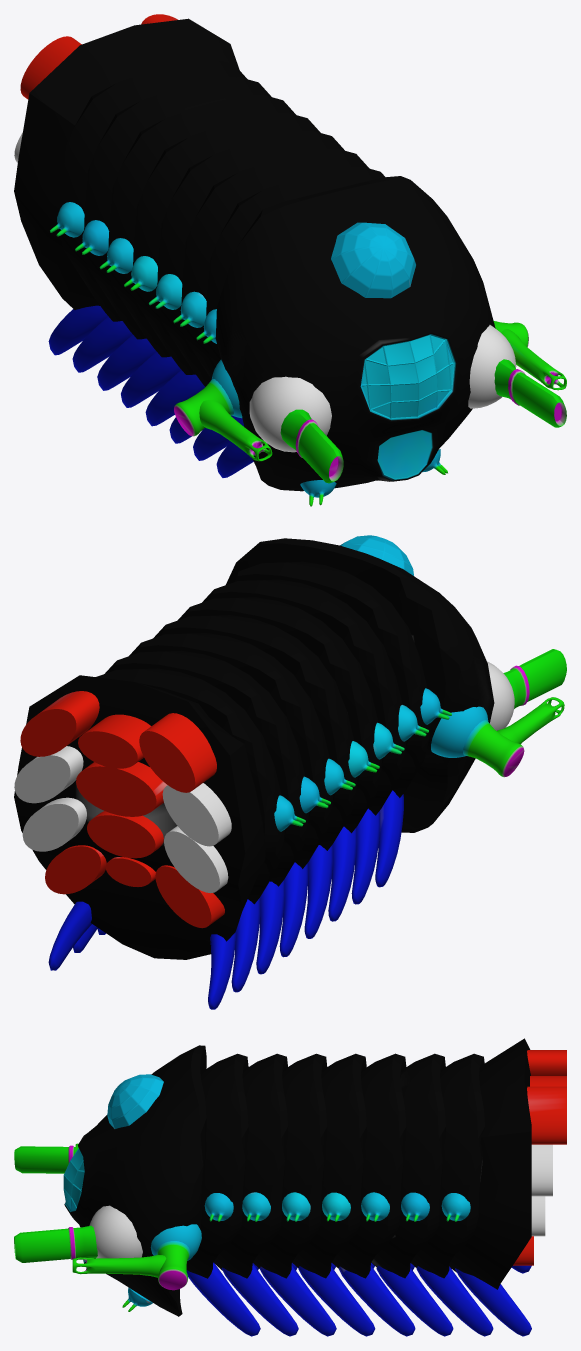
The model's file is Alien Morthership.fbx.
3 renders of one model, top to bottom at view 1: azimuth 30°, elevation 25°; view 2: azimuth 150°, elevation 25°; view 3: azimuth 270°, elevation 25°, orthographic. The views are drawn at different scales.
Parts seen in each view (by area): view 1: Head, Carcass_high.011, Carcass.009, Carcass.008, Carcass.012, Carcass.010, Carcass.013, Carcass.015, Dome.001, Carcass.014, Side_Cannons.002, Ball_Turret.002 (+18 smaller); view 2: Carcass_high.011, Head, Carcass.013, Carcass.012, Carcass.009, Carcass.014, Carcass.008, Carcass.015, Engine.015, Carcass.010, Engine.014, Engine.013 (+24 smaller); view 3: Head, Carcass_high.011, Carcass.009, Carcass.015, Carcass.012, Carcass.008, Carcass.013, Carcass.014, Carcass.010, Side_Cannons.001, Engine.015, Mega_Cannons.001 (+21 smaller).
Boxes of the visible parts, bbox=[...] form: Head: bbox=[215, 176, 495, 491]; Carcass_high.011: bbox=[14, 18, 239, 309]; Carcass.009: bbox=[108, 95, 295, 357]; Carcass.008: bbox=[84, 77, 271, 339]; Carcass.012: bbox=[133, 113, 320, 374]; Carcass.010: bbox=[60, 59, 247, 321]; Carcass.013: bbox=[157, 130, 344, 386]; Carcass.015: bbox=[181, 148, 369, 379]; Dome.001: bbox=[331, 222, 415, 298]; Carcass.014: bbox=[206, 166, 385, 365]; Side_Cannons.002: bbox=[174, 359, 272, 461]; Ball_Turret.002: bbox=[249, 376, 331, 452]; Carcass_high.011: bbox=[14, 675, 265, 959]; Head: bbox=[226, 538, 494, 832]; Carcass.013: bbox=[177, 597, 382, 833]; Carcass.012: bbox=[153, 615, 357, 850]; Carcass.009: bbox=[129, 633, 333, 868]; Carcass.014: bbox=[226, 561, 430, 797]; Carcass.008: bbox=[105, 650, 308, 886]; Carcass.015: bbox=[202, 579, 406, 815]; Engine.015: bbox=[20, 691, 216, 792]; Carcass.010: bbox=[96, 668, 284, 904]; Engine.014: bbox=[14, 746, 231, 846]; Engine.013: bbox=[22, 797, 228, 893]; Head: bbox=[63, 1045, 206, 1316]; Carcass_high.011: bbox=[449, 1038, 531, 1289]; Carcass.009: bbox=[332, 1053, 406, 1278]; Carcass.015: bbox=[214, 1053, 288, 1278]; Carcass.012: bbox=[292, 1053, 366, 1278]; Carcass.008: bbox=[371, 1053, 445, 1278]; Carcass.013: bbox=[253, 1053, 327, 1278]; Carcass.014: bbox=[186, 1053, 248, 1278]; Carcass.010: bbox=[410, 1053, 484, 1278]; Side_Cannons.001: bbox=[72, 1224, 201, 1290]; Engine.015: bbox=[527, 1050, 566, 1144]; Mega_Cannons.001: bbox=[14, 1225, 97, 1262].
Size of the model in its own units: 2691 by 2318 by 4639.
